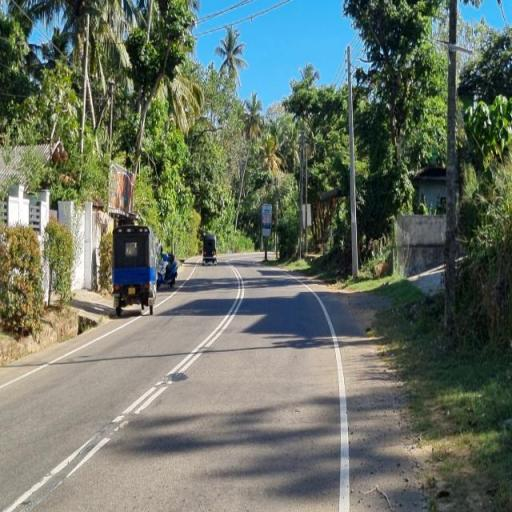double_white_line: (110, 264, 242, 433)
